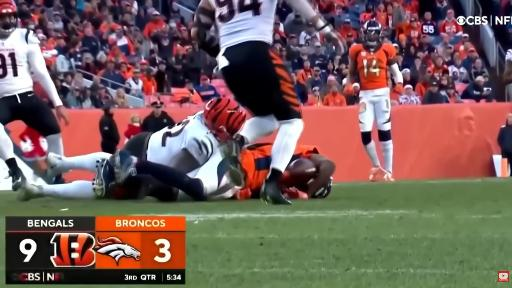Helmet: (204, 98, 246, 141), (0, 0, 17, 35), (363, 20, 382, 45)
Jersey: (147, 112, 218, 165), (210, 0, 277, 49), (0, 29, 39, 97), (349, 44, 395, 90), (240, 143, 271, 190), (506, 49, 511, 61)
Player: (19, 99, 246, 200), (191, 0, 303, 204), (0, 0, 67, 183), (346, 20, 403, 180), (291, 145, 335, 198), (502, 50, 511, 85)
